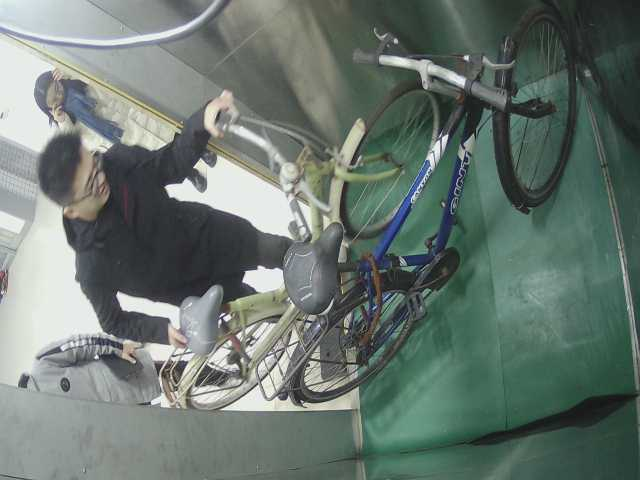bicycle: (253, 7, 580, 403), (161, 61, 442, 417)
person: (26, 131, 290, 282), (29, 60, 195, 148)
